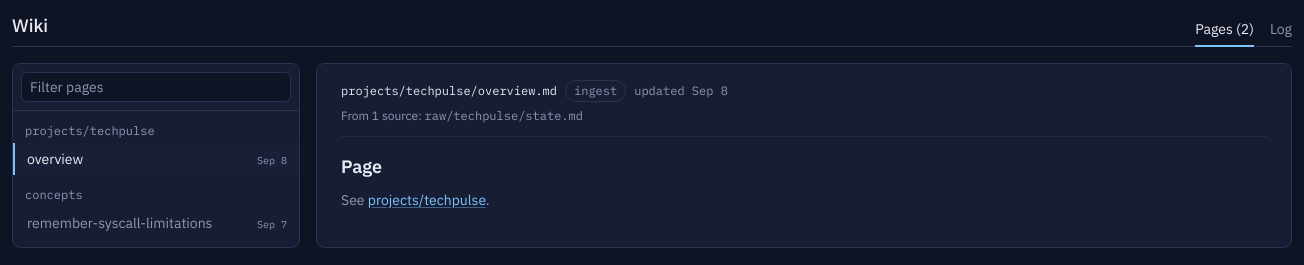
Test: WikiPanel › shows the log tab
Step 1. Click the button "Log" → (1281, 33), box [1270,19,1292,47]
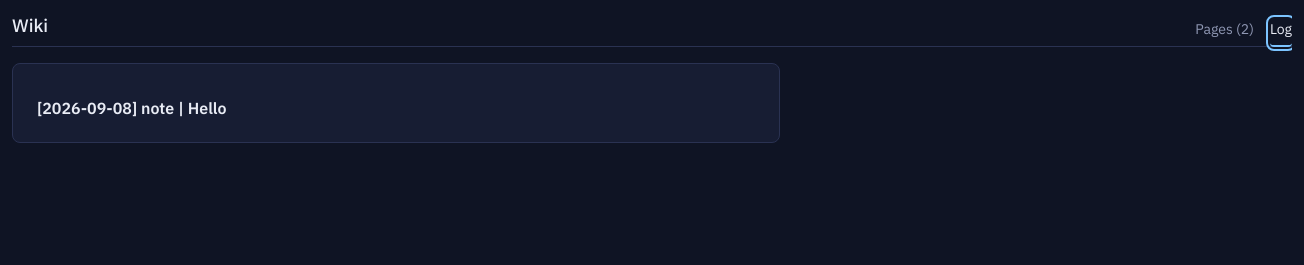
Expected: the heading "[2026-09-08] note | Hello" is shown, [37,98,226,118]
